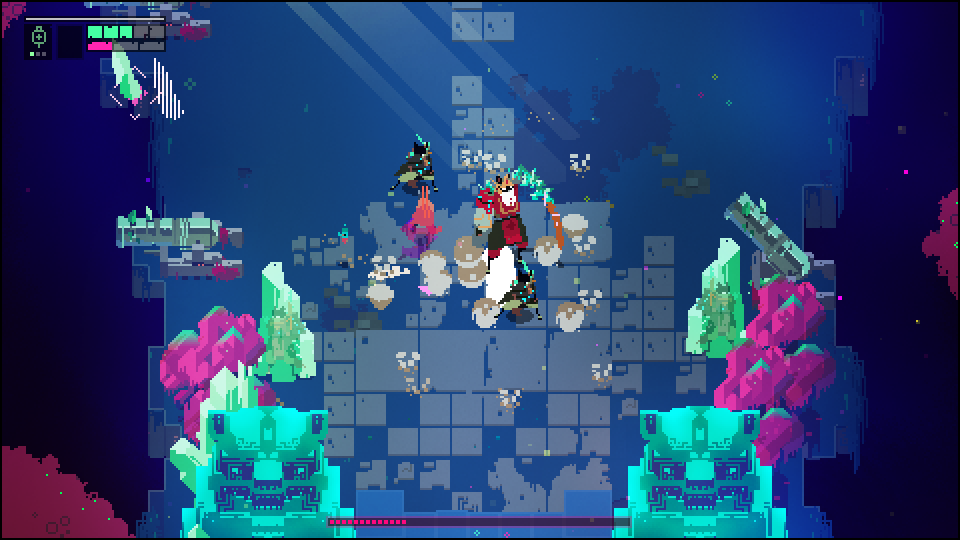hanged_man: (474, 163, 565, 282)
player: (408, 186, 445, 242)
